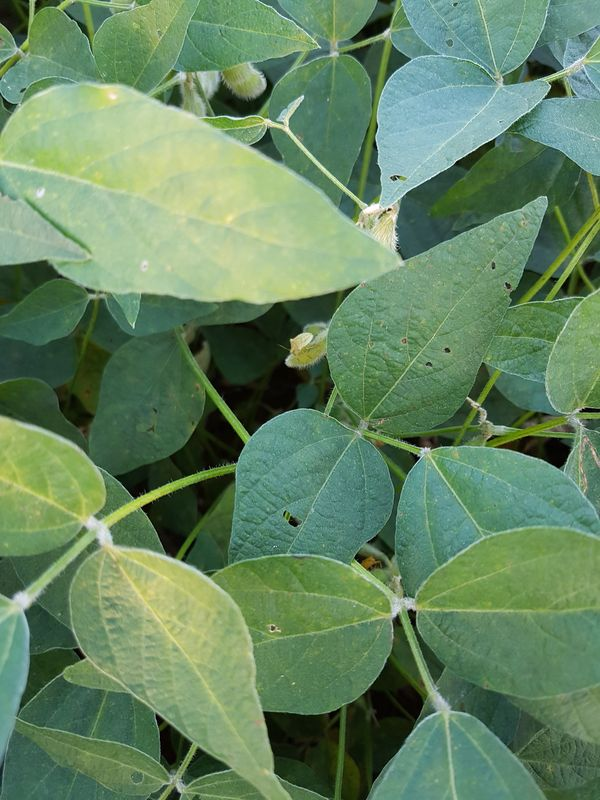Euschistus_heros_ninfa: (280, 326, 319, 364)
